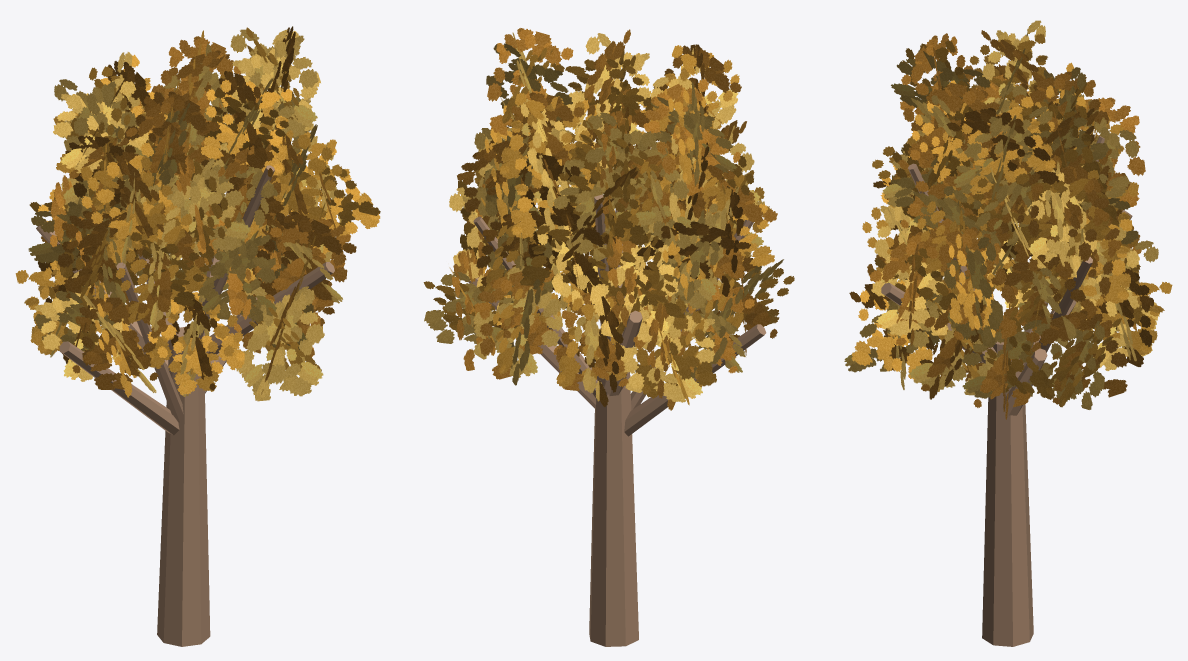
File: RedMaple_Yellow.glb
The picture shows the model from 3 angles, left to right: view 1: azimuth 30°, elevation 25°; view 2: azimuth 150°, elevation 25°; view 3: azimuth 270°, elevation 25°; orthographic projection.
Parts seen in each view (by area): view 1: Trunk, FoliageCard_08_03, FoliageCard_34_00, FoliageCard_35_03, FoliageCard_25_00, FoliageCard_18_03, FoliageCard_32_00, FoliageCard_07_00, FoliageCard_18_00, FoliageCard_16_00, FoliageCard_26_03, FoliageCard_33_03 (+58 smaller); view 2: Trunk, FoliageCard_04_01, FoliageCard_02_01, FoliageCard_32_01, FoliageCard_13_01, FoliageCard_35_01, FoliageCard_04_00, FoliageCard_02_00, FoliageCard_22_01, FoliageCard_30_01, FoliageCard_31_01, FoliageCard_34_01 (+68 smaller); view 3: Trunk, FoliageCard_01_02, FoliageCard_35_02, FoliageCard_34_02, FoliageCard_19_02, FoliageCard_19_01, FoliageCard_20_01, FoliageCard_08_02, FoliageCard_35_01, FoliageCard_35_03, FoliageCard_18_02, FoliageCard_09_02 (+55 smaller).
Part boxes in pixels (x1,y1,x2,y2): Trunk: (157,327,210,646); FoliageCard_08_03: (236,287,324,401); FoliageCard_34_00: (201,79,292,176); FoliageCard_35_03: (230,29,318,137); FoliageCard_25_00: (81,142,189,263); FoliageCard_18_03: (256,211,356,314); FoliageCard_32_00: (53,78,148,173); FoliageCard_07_00: (147,290,244,395); FoliageCard_18_00: (265,218,350,307); FoliageCard_16_00: (116,213,206,323); FoliageCard_26_03: (148,164,251,262); FoliageCard_33_03: (121,91,220,185); Trunk: (589,334,638,646); FoliageCard_04_01: (620,302,715,402); FoliageCard_02_01: (474,270,562,379); FoliageCard_32_01: (643,78,740,195); FoliageCard_13_01: (589,242,678,342); FoliageCard_35_01: (487,28,573,135); FoliageCard_04_00: (623,299,716,398); FoliageCard_02_00: (473,266,567,377); FoliageCard_22_01: (554,165,656,261); FoliageCard_30_01: (499,92,594,179); FoliageCard_31_01: (562,112,662,210); FoliageCard_34_01: (566,33,650,142); Trunk: (982,341,1033,646); FoliageCard_01_02: (1026,310,1127,404); FoliageCard_35_02: (952,96,1055,194); FoliageCard_34_02: (898,82,1001,189); FoliageCard_19_02: (926,227,1017,340); FoliageCard_19_01: (943,237,1003,347); FoliageCard_20_01: (1020,154,1109,279); FoliageCard_08_02: (851,279,939,379); FoliageCard_35_01: (946,108,1059,184); FoliageCard_35_03: (953,107,1052,193); FoliageCard_18_02: (871,252,956,335); FoliageCard_09_02: (909,296,997,395).
Size of the model in its own units: 4.77 by 8.27 by 4.36.
5 materials, 3 textured.
